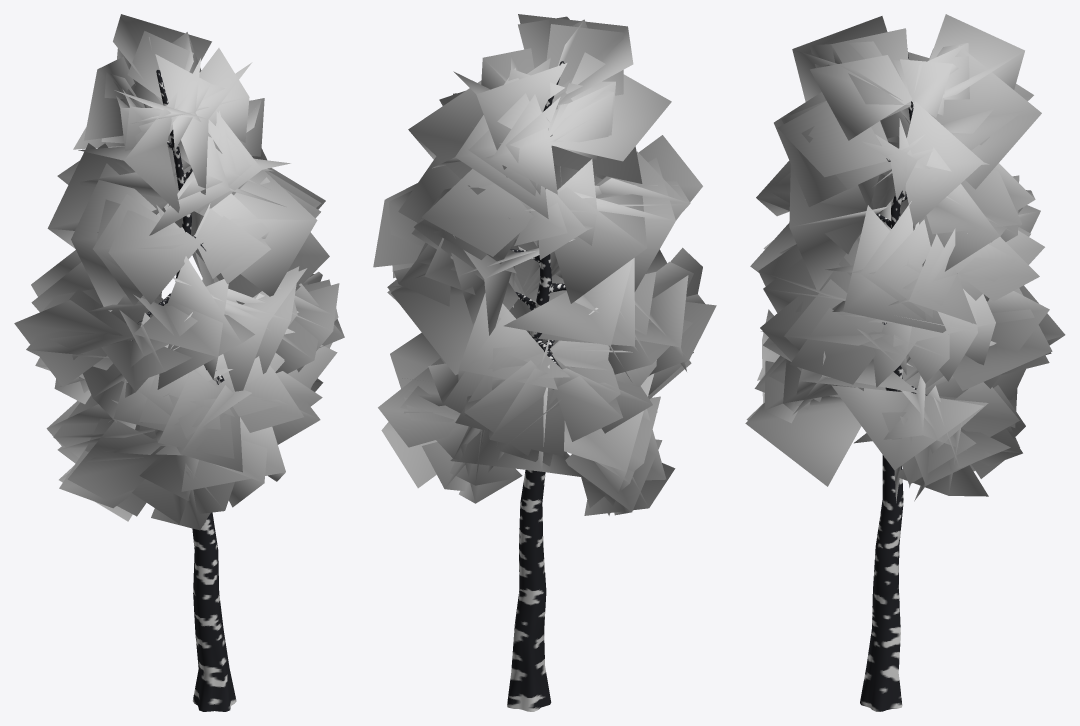
The model's file is BirchTree_03.fbx.
3 renders of one model, left to right at view 1: azimuth 30°, elevation 25°; view 2: azimuth 150°, elevation 25°; view 3: azimuth 270°, elevation 25°, orthographic. The views are drawn at different scales.
Visible parts, largest first — view 1: BirchTree_03; view 2: BirchTree_03; view 3: BirchTree_03.
Boxes of the visible parts, x1,y1,x2,y2 form: BirchTree_03: [14, 14, 344, 711]; BirchTree_03: [373, 14, 716, 711]; BirchTree_03: [745, 14, 1065, 711].
Size of the model in its own units: 3871 by 8125 by 3602.
